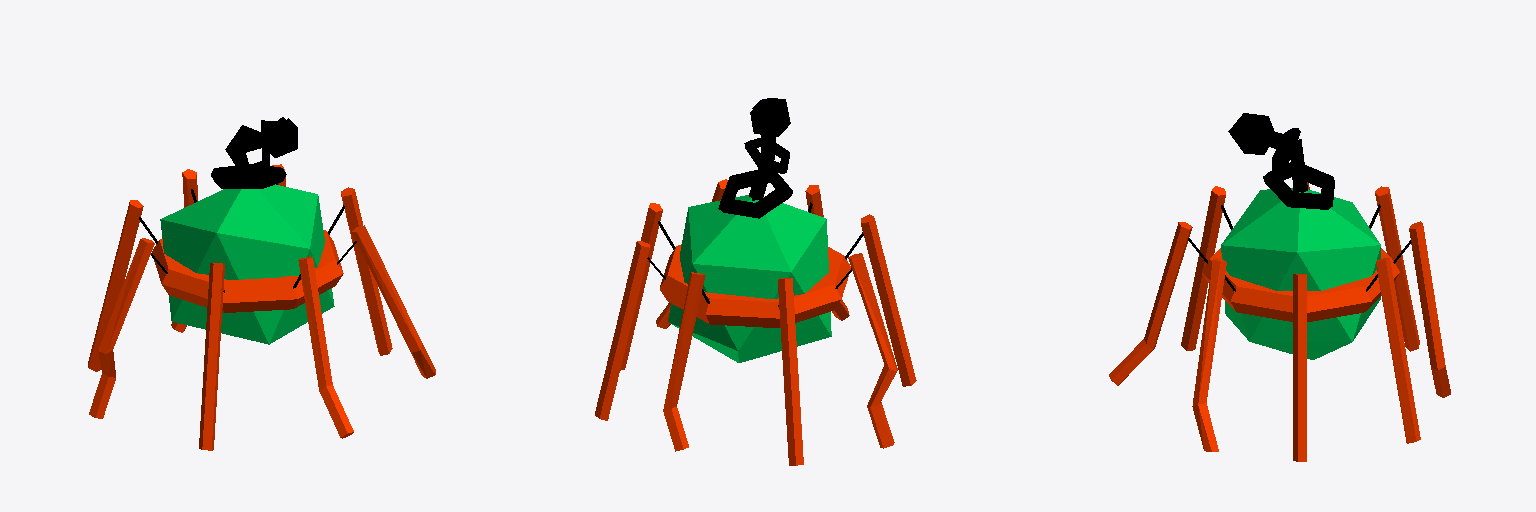
The model's file is probe_broken.obj.
The picture shows the model from 3 angles: view 1: azimuth 30°, elevation 25°; view 2: azimuth 150°, elevation 25°; view 3: azimuth 270°, elevation 25°; orthographic projection.
Visible parts, largest first — view 1: ProbeBroken_Icosphere.010; view 2: ProbeBroken_Icosphere.010; view 3: ProbeBroken_Icosphere.010.
Part boxes in pixels (x1,y1,x2,y2): ProbeBroken_Icosphere.010: (88,117,435,450); ProbeBroken_Icosphere.010: (595,98,916,465); ProbeBroken_Icosphere.010: (1109,113,1450,461).
Bounding box in the file's own units: 3.45 × 3.24 × 3.51.